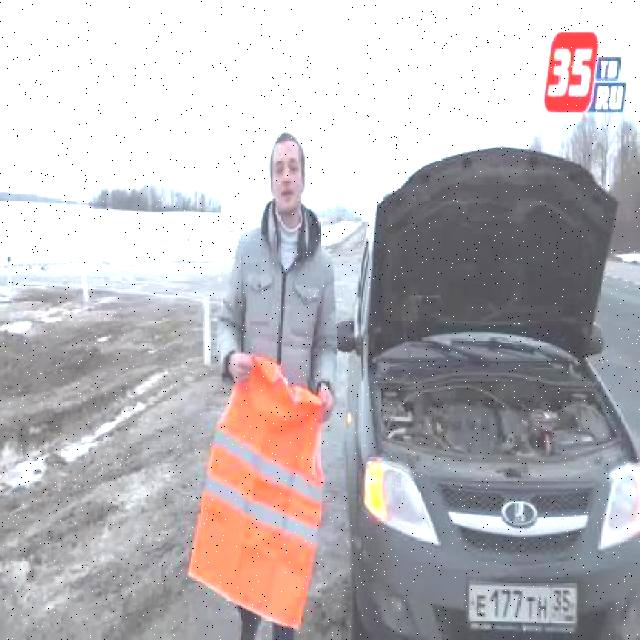Mask: (185, 354, 326, 634)
